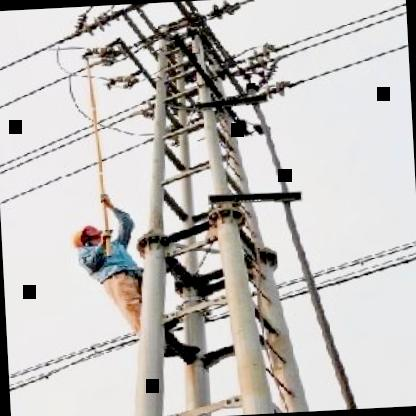helmet: (64, 222, 106, 253)
